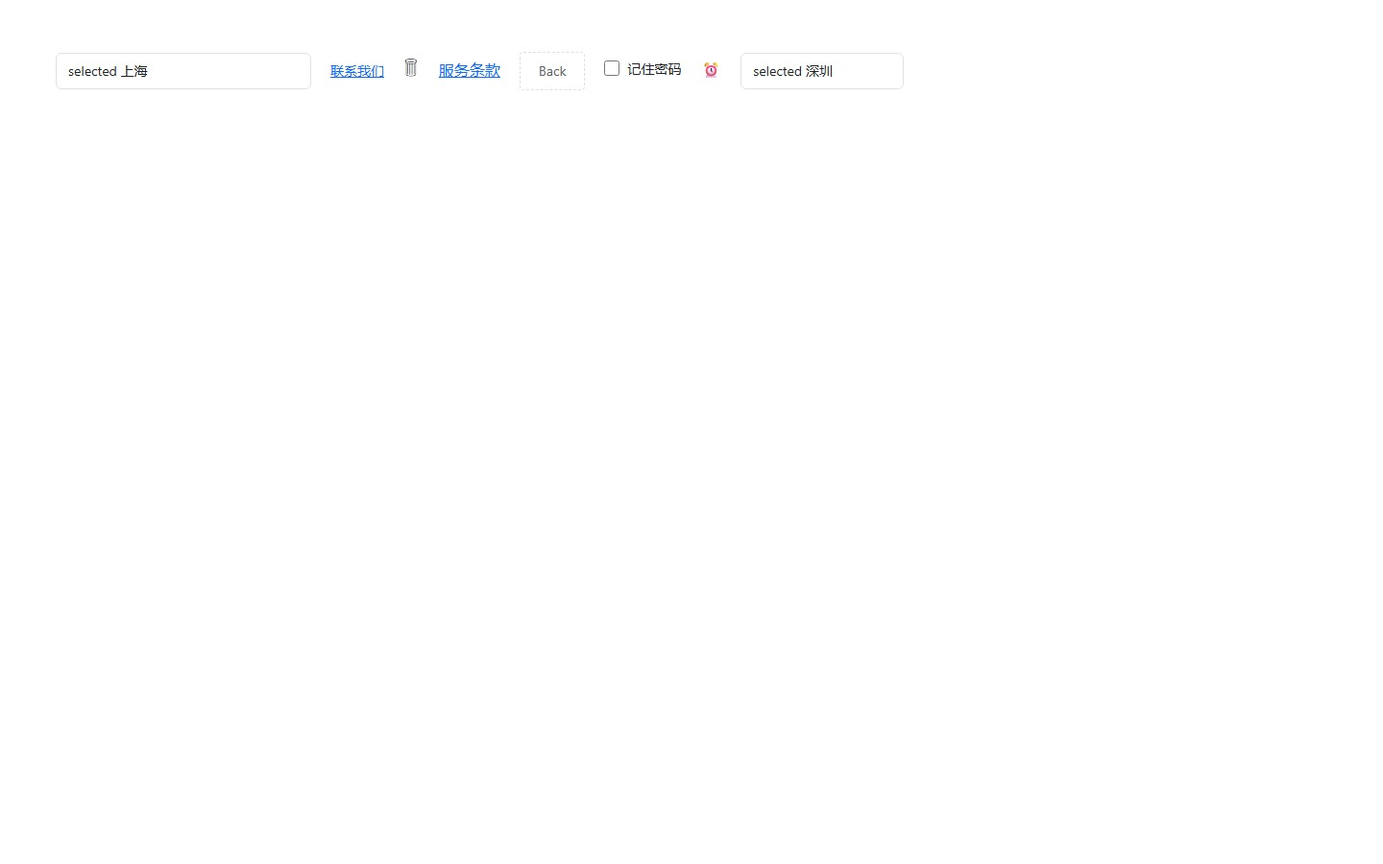button: (519, 52, 585, 90)
checkbox: (604, 60, 620, 76)
icon: (627, 59, 681, 77), (403, 55, 419, 78), (700, 62, 722, 78)
link: (439, 60, 500, 80), (330, 61, 384, 80)
radio: (604, 59, 681, 77)
select: (56, 52, 311, 89), (741, 52, 904, 89)
